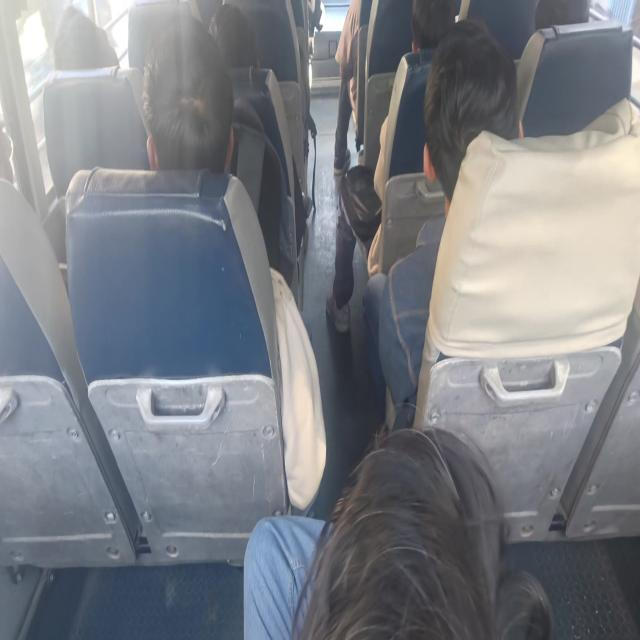person: (139, 12, 327, 512), (362, 18, 523, 430), (243, 424, 552, 638), (325, 0, 456, 333), (372, 0, 455, 202), (140, 15, 234, 173), (332, 0, 413, 175), (333, 1, 361, 174), (52, 5, 120, 71), (208, 3, 259, 69)
